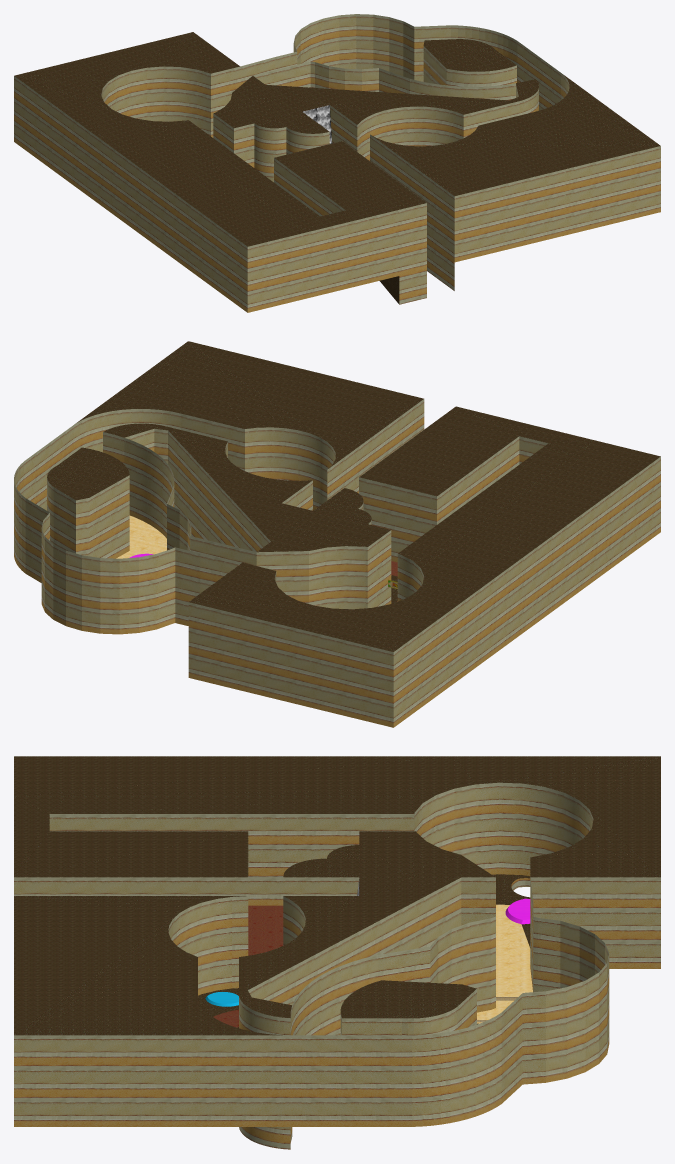
The picture shows the model from 3 angles, top to bottom: view 1: azimuth 30°, elevation 25°; view 2: azimuth 150°, elevation 25°; view 3: azimuth 270°, elevation 25°; orthographic projection. The views are drawn at different scales.
Visible parts, largest first — view 1: course-SKP--yc_wall, course-SKP--yc_offroad, course-SKP--waterfall; view 2: course-SKP--yc_wall, course-SKP--yc_offroad, course-SKP--yc_roadsand; view 3: course-SKP--yc_wall, course-SKP--yc_offroad, course-SKP--yc_roadsand, course-SKP--yc_choco.
Part boxes in pixels (x1,y1,x2,y2): course-SKP--yc_wall: (14, 14, 660, 312); course-SKP--yc_offroad: (14, 32, 660, 304); course-SKP--waterfall: (302, 105, 332, 143); course-SKP--yc_wall: (14, 399, 660, 727); course-SKP--yc_offroad: (47, 341, 660, 651); course-SKP--yc_roadsand: (116, 515, 166, 558); course-SKP--yc_wall: (14, 782, 660, 1149); course-SKP--yc_offroad: (14, 756, 660, 1035); course-SKP--yc_roadsand: (477, 904, 532, 1023); course-SKP--yc_choco: (213, 905, 283, 1027).
Size of what is drawn, in the model's own units: 56623 by 12437 by 55468.
Materials: 14 (13 with a texture image).
